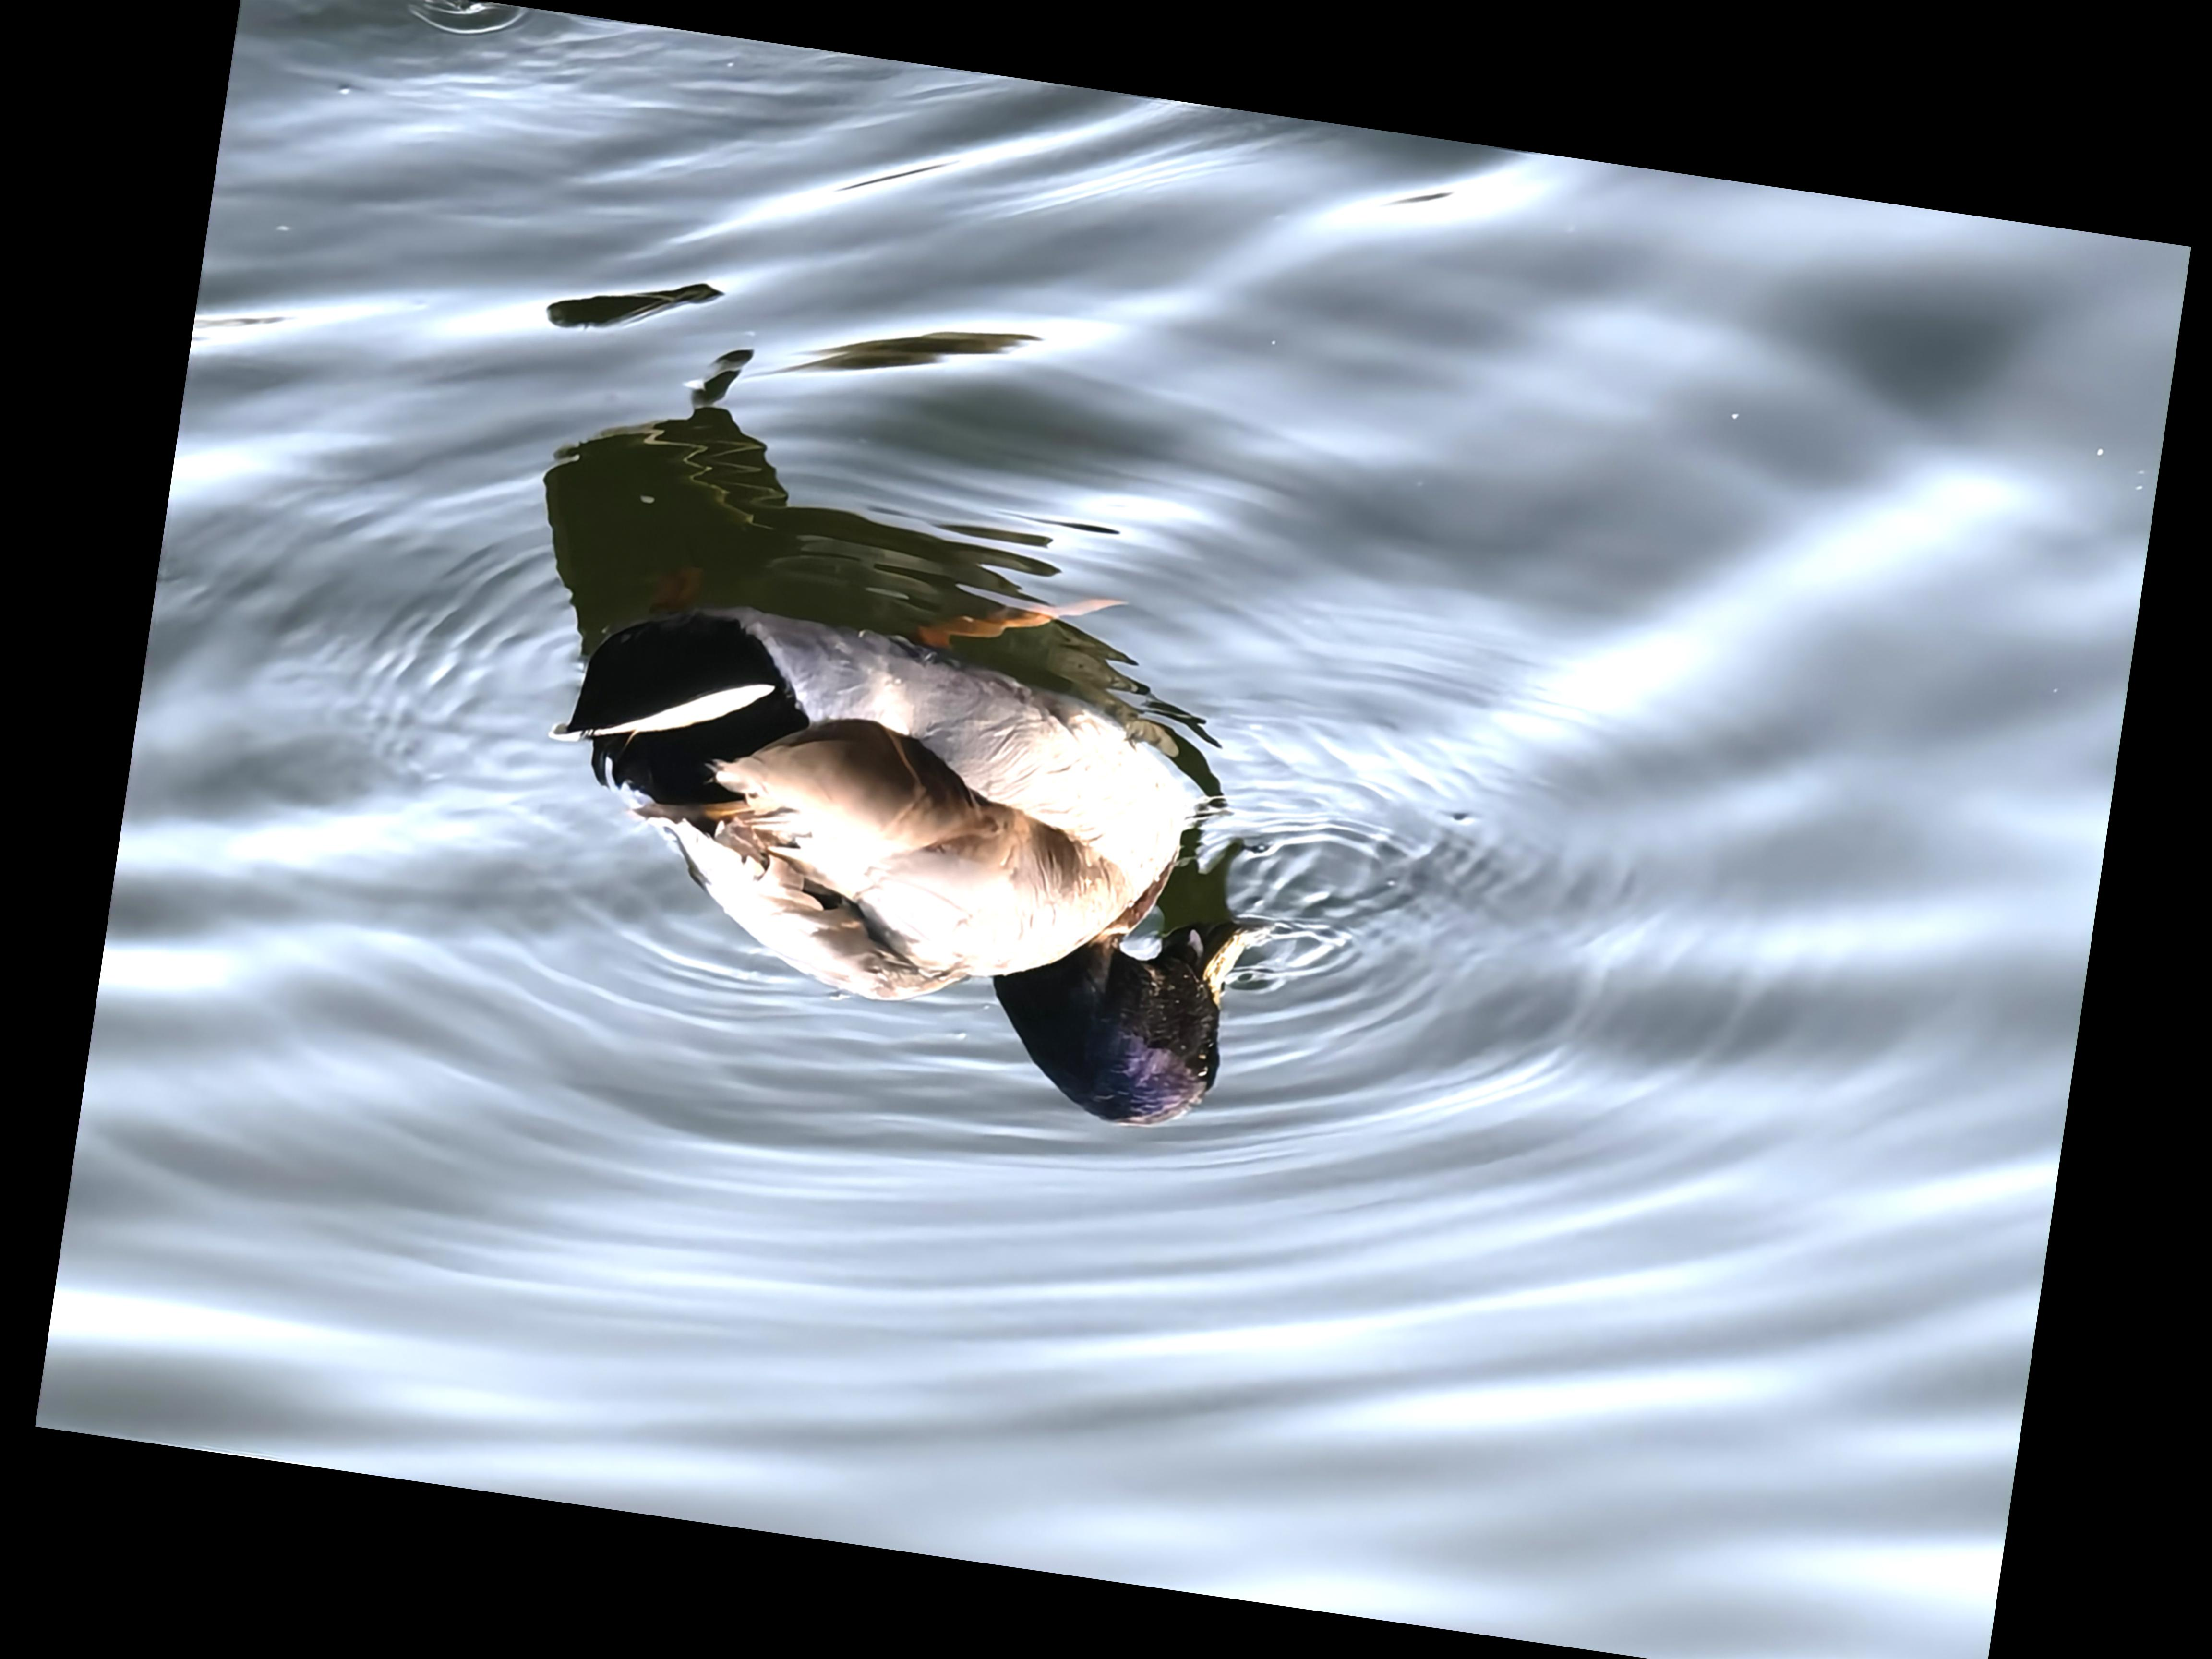duck: (448, 458, 1343, 1175)
